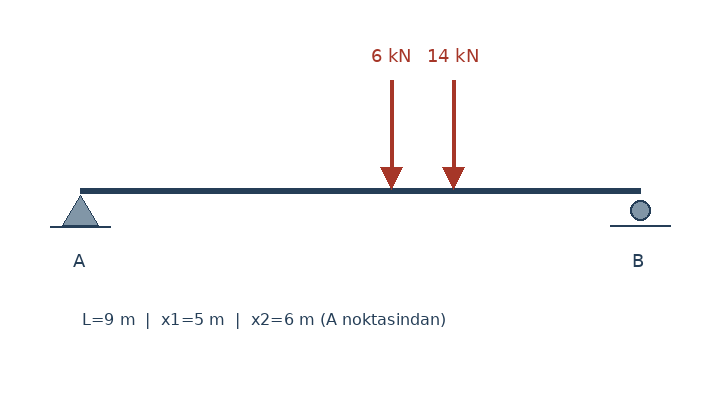pin_support: (61, 190, 99, 226)
point_load: (377, 76, 405, 190), (439, 76, 467, 190)
roller_support: (625, 196, 655, 227)
